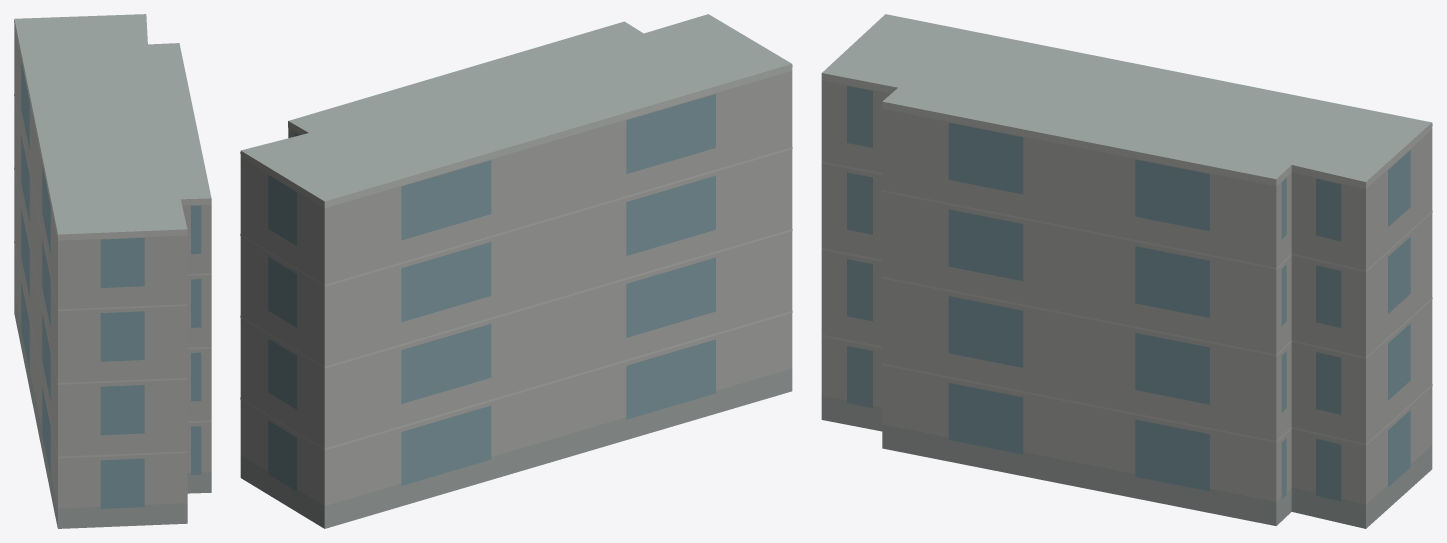
The model's file is survey-upis-32630980.glb.
3 renders of one model, left to right at view 1: azimuth 30°, elevation 25°; view 2: azimuth 150°, elevation 25°; view 3: azimuth 270°, elevation 25°, orthographic. The views are drawn at different scales.
Visible parts, largest first — view 1: survey-upis-32630980.tmp; view 2: survey-upis-32630980.tmp; view 3: survey-upis-32630980.tmp.
Boxes of the visible parts, x1,y1,x2,y2 form: survey-upis-32630980.tmp: (14,14,211,528); survey-upis-32630980.tmp: (240,14,792,528); survey-upis-32630980.tmp: (821,14,1432,528).
Size of the model in its own units: 12.18 by 11.7 by 18.69.
